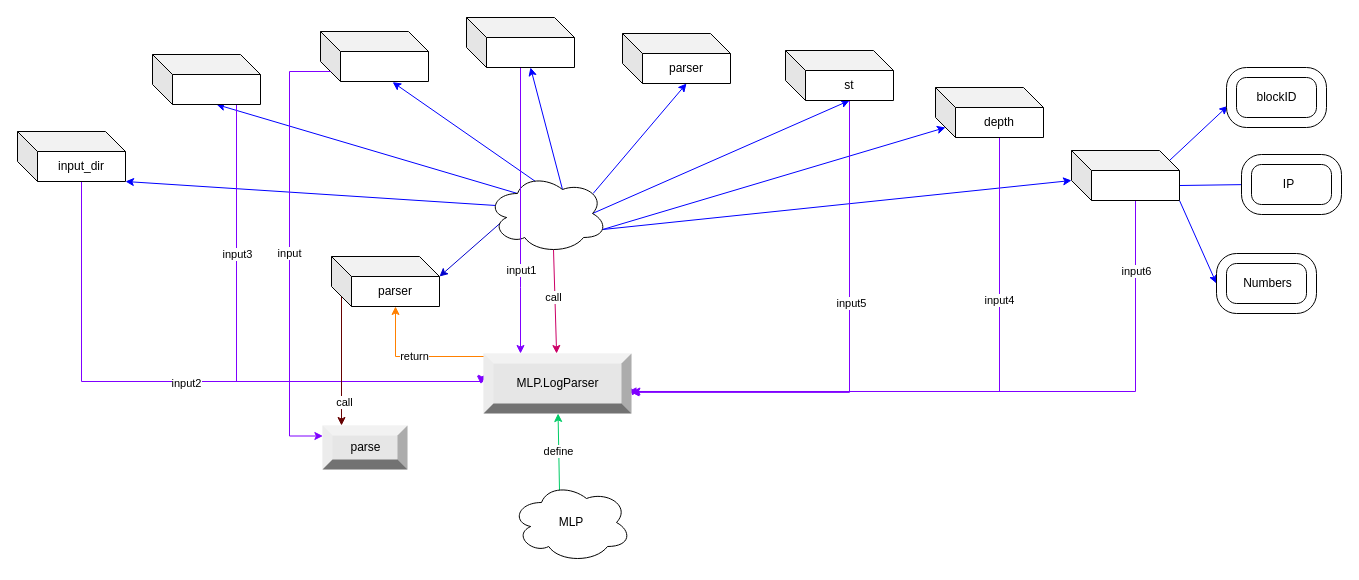
The diagram is 1359 pixels wide and 580 high, and some of its shapes have lost their labels. The shapes that lost their labels are listed below. From the top down, each one's box as (x1, y1, x2, y2) in pixels, then its label:
(320, 30, 428, 82): log_file
(466, 16, 574, 68): log_format
(152, 54, 260, 104): output_dir
(1070, 150, 1180, 200): regex
(486, 172, 608, 254): MLP_demo
